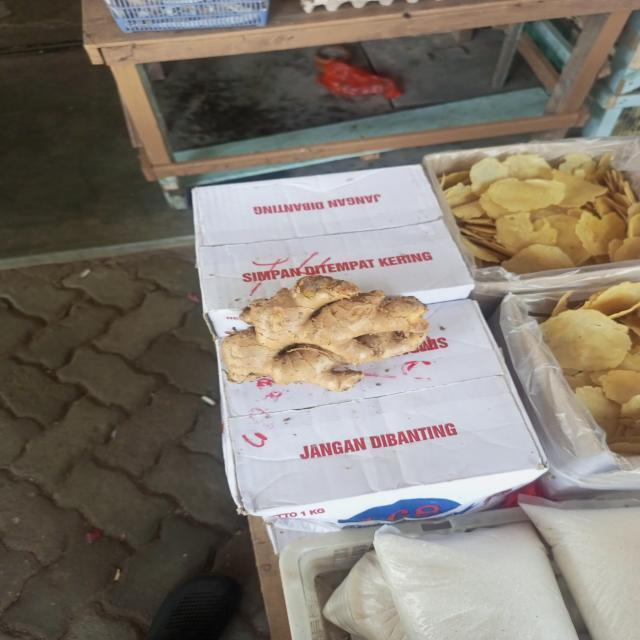ginger: (222, 285, 426, 388)
